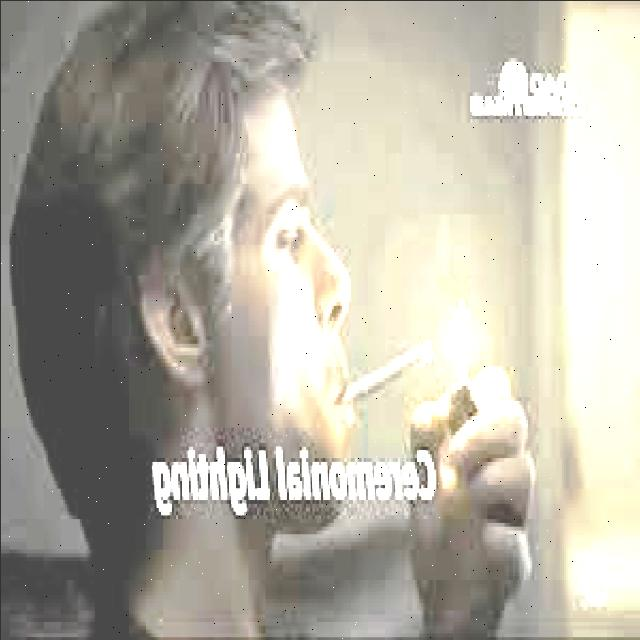api: (443, 298, 477, 378)
